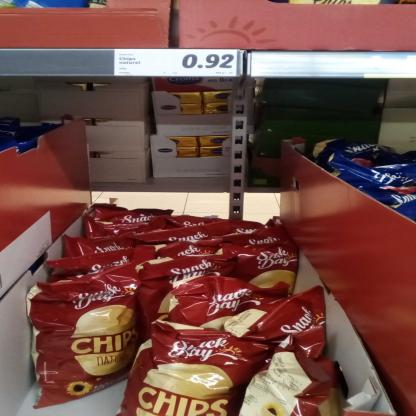prtg: (115, 50, 238, 78)
